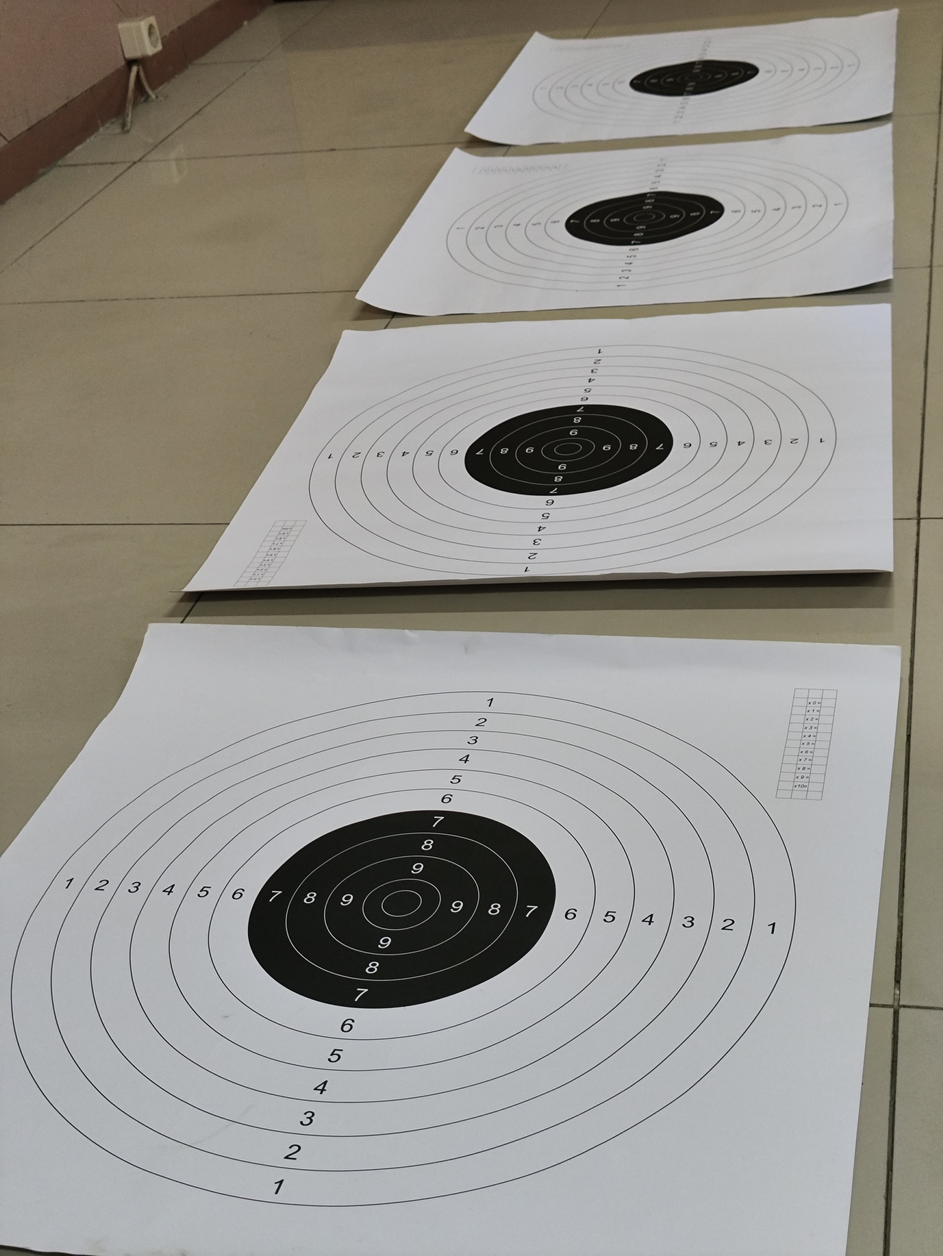target: (3, 674, 809, 1230), (293, 315, 875, 592), (421, 136, 864, 302)
